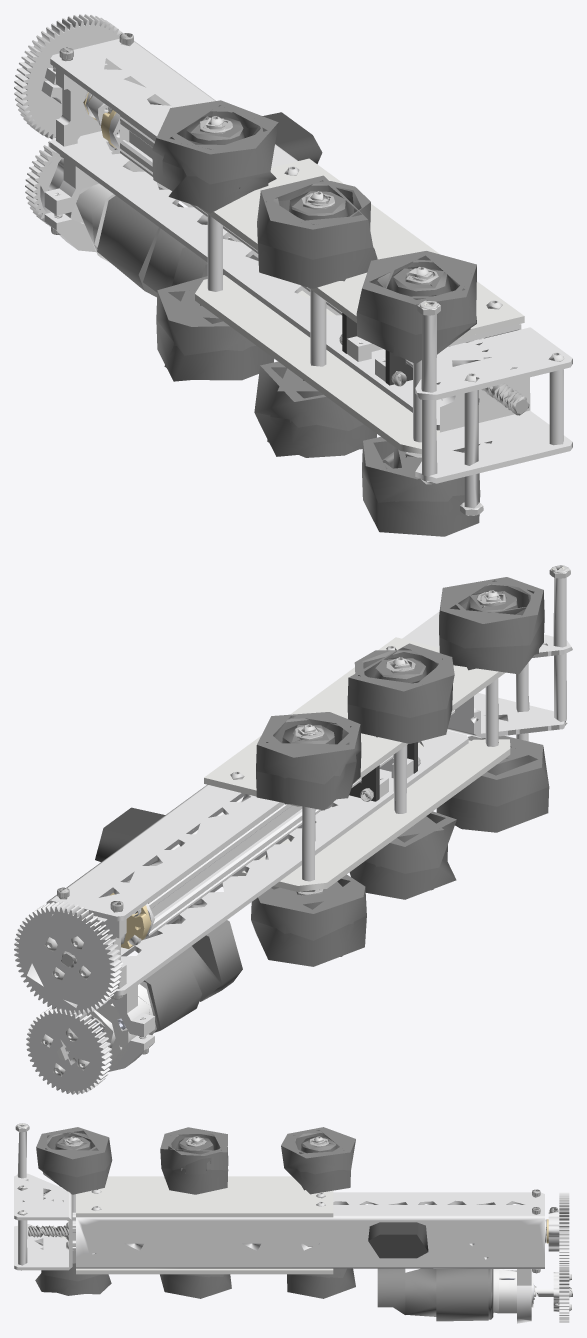
File: roverruckus-hang.glb
3 views of the same model, one above another, from view 1: azimuth 30°, elevation 25°; view 2: azimuth 150°, elevation 25°; view 3: azimuth 270°, elevation 25° (orthographic). The views are drawn at different scales.
Parts seen in each view (by area): view 1: telemark-cad-rover-hang; view 2: telemark-cad-rover-hang; view 3: telemark-cad-rover-hang.
Boxes of the visible parts, left/top/right/bottom form: telemark-cad-rover-hang: left=14, top=14, right=572, bottom=536; telemark-cad-rover-hang: left=14, top=565, right=572, bottom=1094; telemark-cad-rover-hang: left=14, top=1123, right=572, bottom=1323.
Bounding box in the file's own units: 0.0917 × 0.1203 × 0.3632.
Materials: 1 (1 with a texture image).
